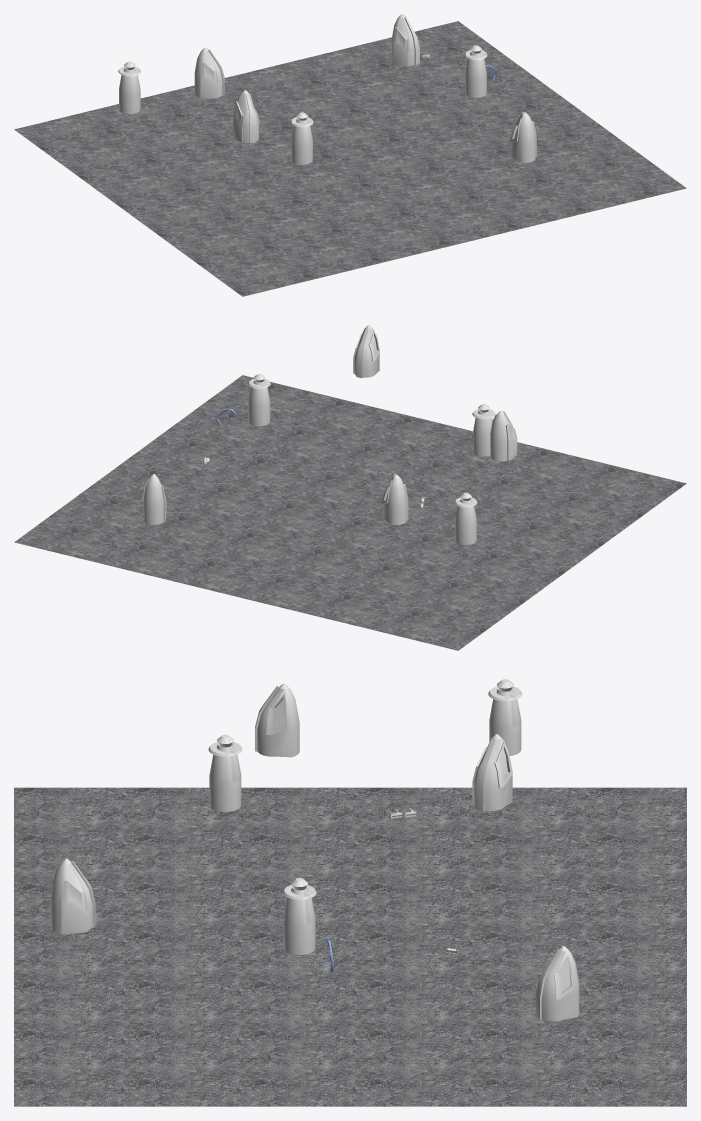
Rendered from LoopMap_scenery.fbx.
The picture shows the model from 3 angles, top to bottom: view 1: azimuth 30°, elevation 25°; view 2: azimuth 150°, elevation 25°; view 3: azimuth 270°, elevation 25°; orthographic projection. The views are drawn at different scales.
Visible parts, largest first — view 1: pPlane1, pCylinder4, pCylinder1, pCylinder5, QuickMapObjects:pCylinder1, QuickMapObjects:pCylinder2, pCylinder3, pCylinder2; view 2: pPlane1, pCylinder5, QuickMapObjects:pCylinder1, pCylinder4, QuickMapObjects:pCylinder2, pCylinder2, pCylinder1, pCylinder3; view 3: pPlane1, QuickMapObjects:pCylinder1, pCylinder5, pCylinder1, pCylinder4, pCylinder3, QuickMapObjects:pCylinder2, pCylinder2.
Part boxes in pixels (x1,y1,x2,y2): pPlane1: [14, 21, 686, 296]; pCylinder4: [194, 47, 224, 98]; pCylinder1: [391, 14, 419, 66]; pCylinder5: [233, 90, 259, 143]; QuickMapObjects:pCylinder1: [510, 112, 536, 162]; QuickMapObjects:pCylinder2: [464, 45, 487, 97]; pCylinder3: [290, 112, 313, 164]; pCylinder2: [118, 61, 140, 113]; pPlane1: [14, 375, 686, 650]; pCylinder5: [490, 411, 517, 461]; QuickMapObjects:pCylinder1: [353, 325, 379, 378]; pCylinder4: [382, 474, 408, 524]; QuickMapObjects:pCylinder2: [248, 374, 270, 426]; pCylinder2: [454, 492, 477, 544]; pCylinder1: [142, 474, 166, 524]; pCylinder3: [472, 404, 495, 456]; pPlane1: [14, 787, 686, 1106]; QuickMapObjects:pCylinder1: [50, 858, 95, 933]; pCylinder5: [255, 683, 299, 757]; pCylinder1: [535, 946, 579, 1021]; pCylinder4: [472, 734, 512, 811]; pCylinder3: [208, 734, 242, 811]; QuickMapObjects:pCylinder2: [282, 877, 316, 954]; pCylinder2: [488, 679, 522, 755].
Bounding box in the file's own units: 2094 × 523 × 1866.
Materials: 3 (3 with a texture image).
